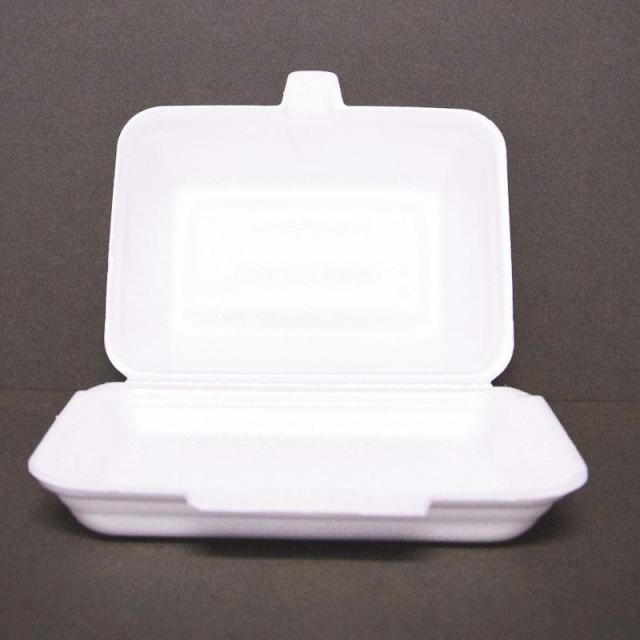styrofoam: (26, 68, 589, 544)
